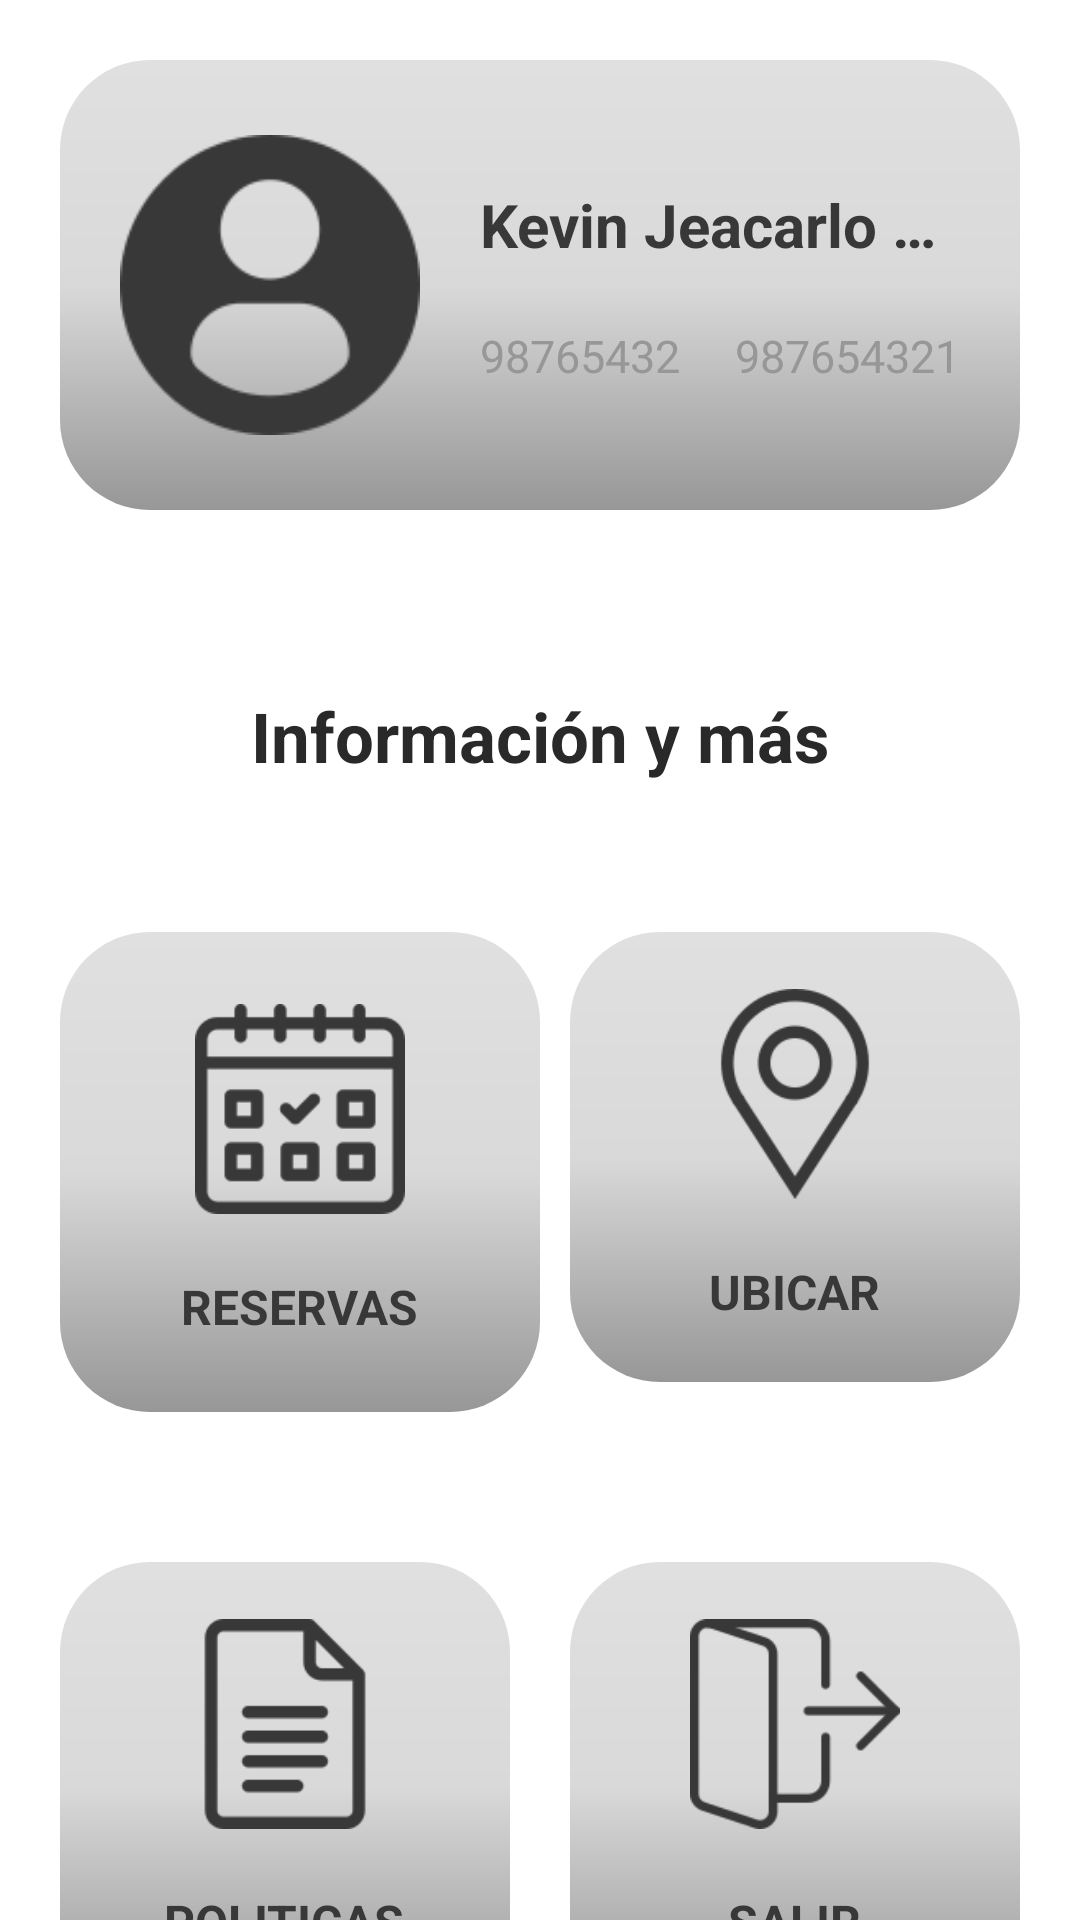

Screen size 1080 × 1920. Icon name, then its center in pixels as point (x, y):
doc: point (285, 1724)
profile rounded: point (270, 285)
